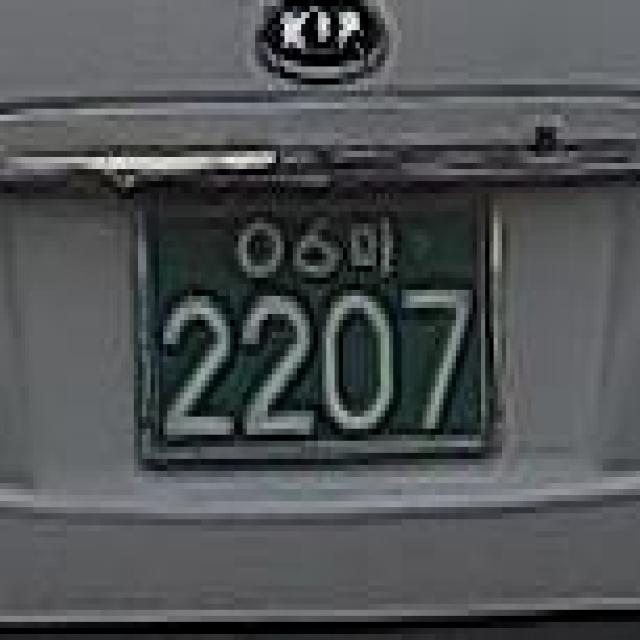illegal_plate: (123, 166, 519, 480)
